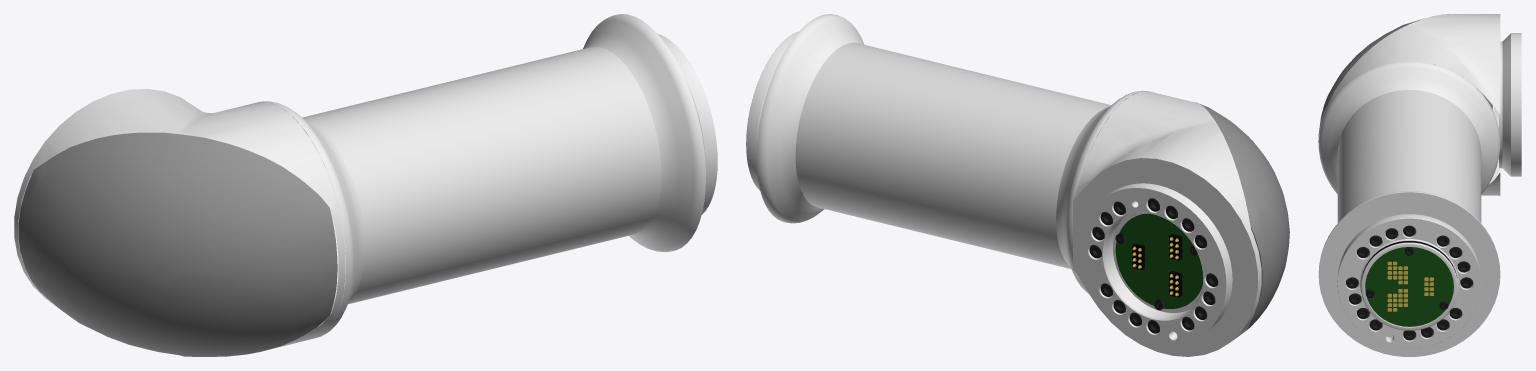
3 renders of one model, left to right at view 1: azimuth 30°, elevation 25°; view 2: azimuth 150°, elevation 25°; view 3: azimuth 270°, elevation 25°, orthographic. The views are drawn at different scales.
Visible parts, largest first — view 1: L86.001; view 2: L86.001; view 3: L86.001.
Boxes of the visible parts, x1,y1,x2,y2 form: L86.001: (14,14,717,356); L86.001: (746,14,1289,356); L86.001: (1318,14,1521,356).
Size of the model in its own units: 0.2479 by 0.0863 by 0.0961.
